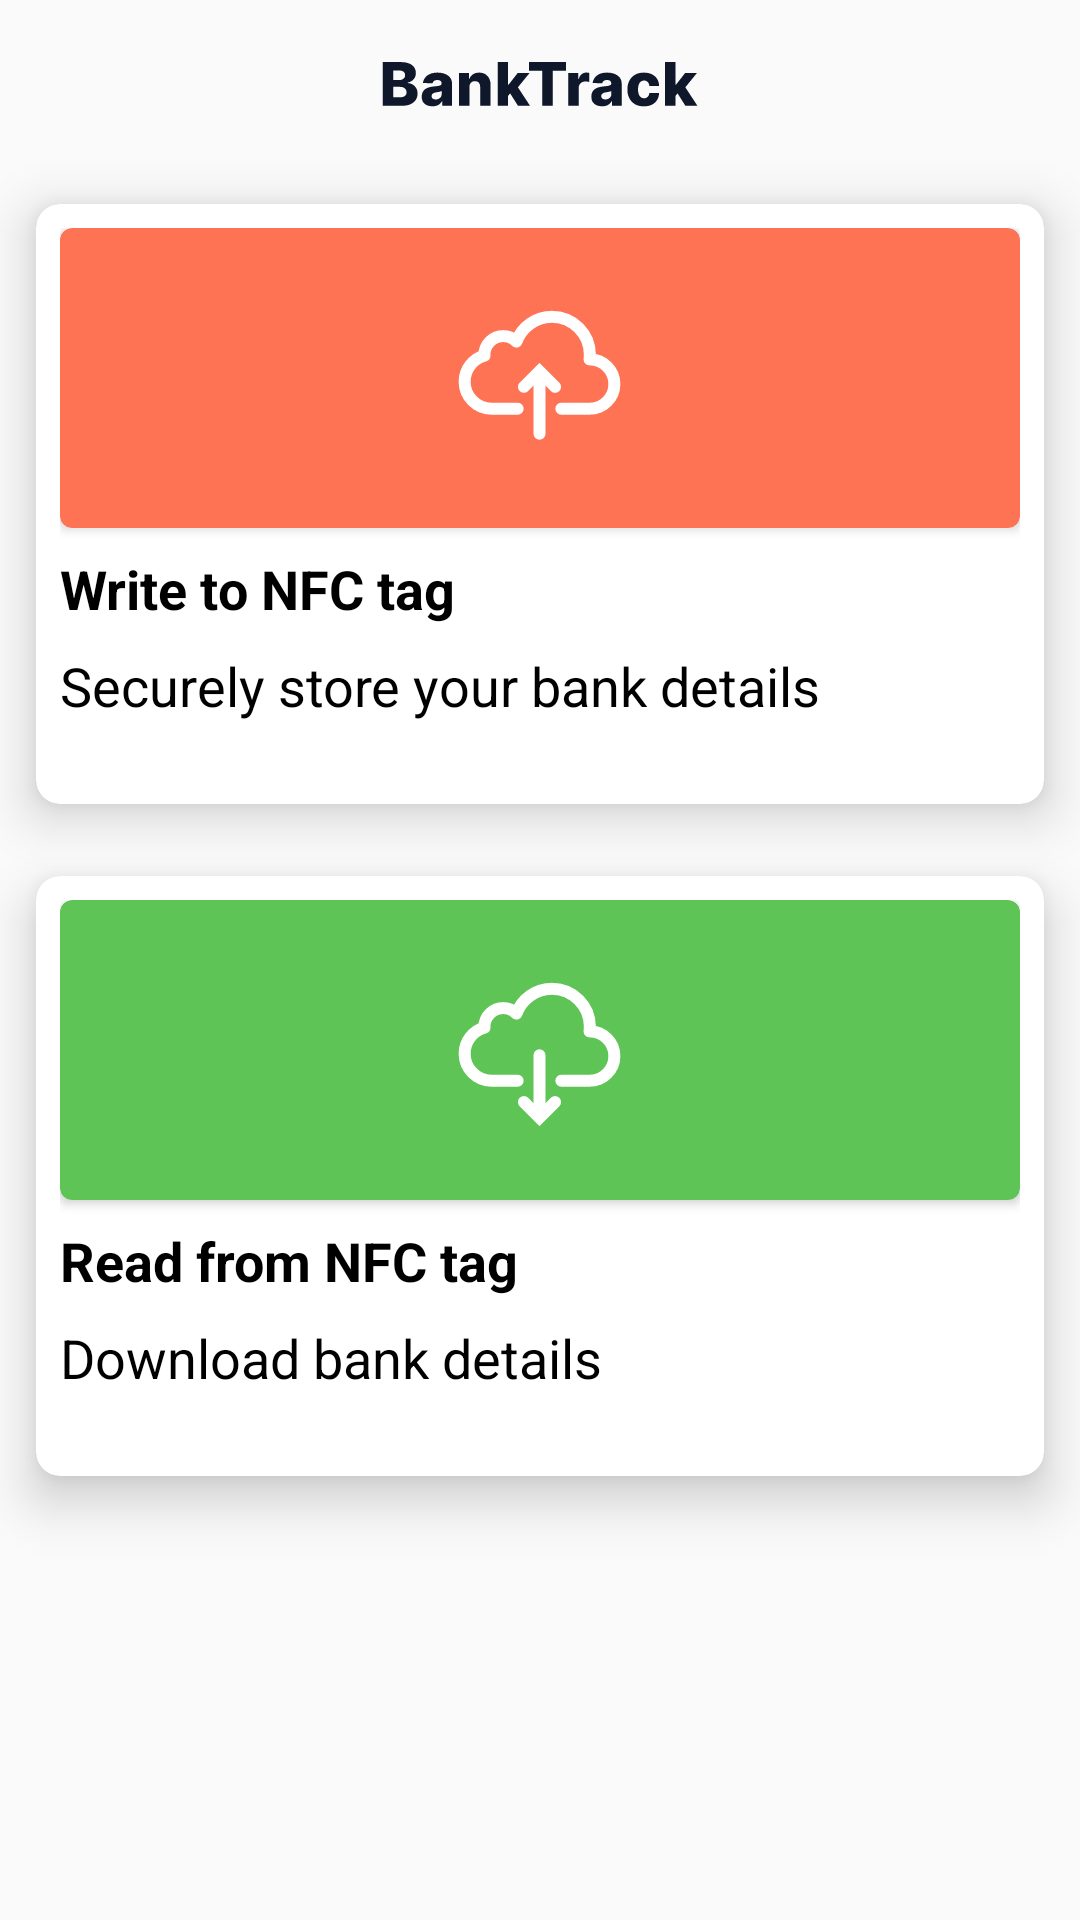

Icons on this 1080 × 1920 Android screen, each with its box as (x1, y1, x2, y2):
download details: (458, 982, 621, 1126)
upload details: (458, 310, 621, 440)
